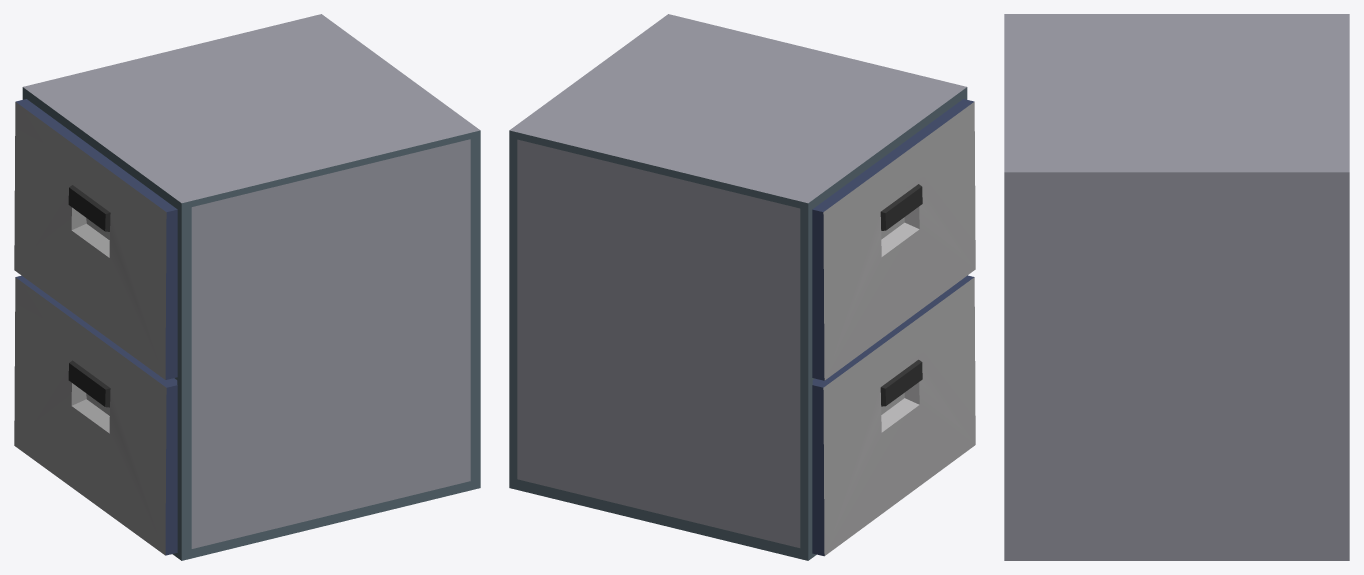
Rendered from Filing_Cabinet_Sealed.fbx.
3 renders of one model, left to right at view 1: azimuth 30°, elevation 25°; view 2: azimuth 150°, elevation 25°; view 3: azimuth 270°, elevation 25°, orthographic. The views are drawn at different scales.
Parts seen in each view (by area): view 1: Filing_Cabinet3; view 2: Filing_Cabinet3; view 3: Filing_Cabinet3.
Boxes of the visible parts, x1,y1,x2,y2 form: Filing_Cabinet3: (14,14,480,560); Filing_Cabinet3: (509,14,975,560); Filing_Cabinet3: (1004,14,1349,560).
Bounding box in the file's own units: 102 × 110 × 89.04.
